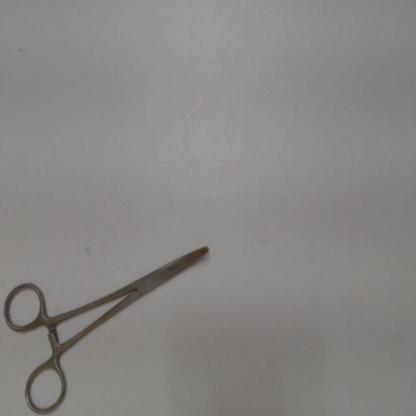Crile Artery Forceps: (1, 237, 218, 415)
